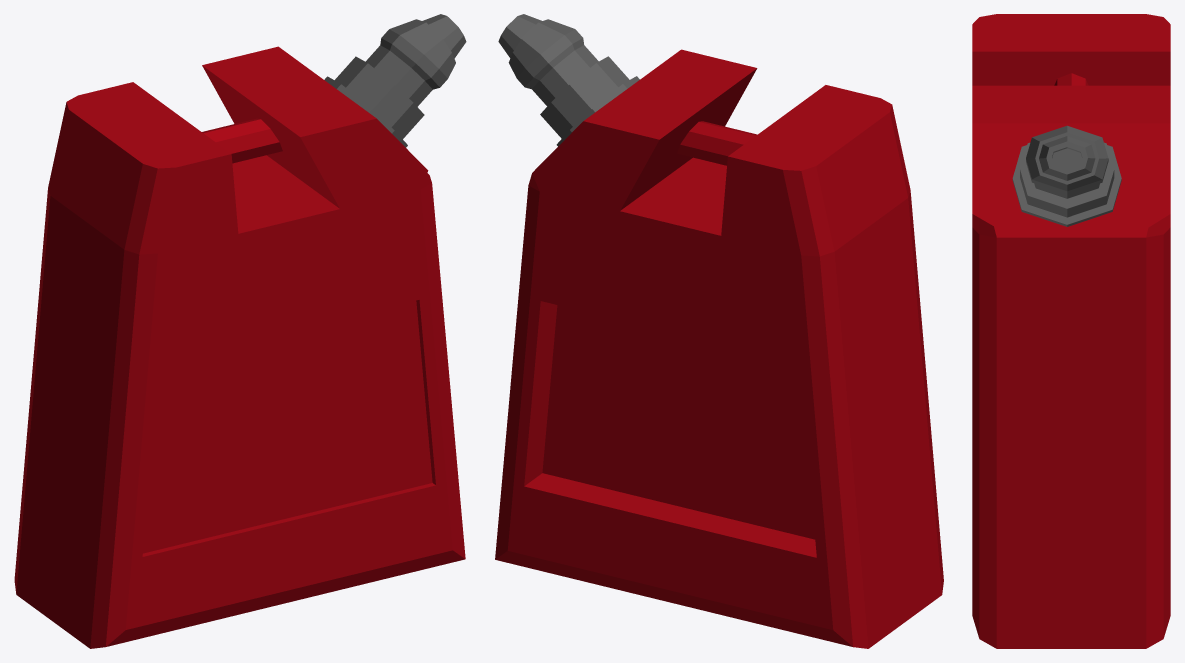
Rendered from oil bottle.fbx.
The picture shows the model from 3 angles, left to right: view 1: azimuth 30°, elevation 25°; view 2: azimuth 150°, elevation 25°; view 3: azimuth 270°, elevation 25°; orthographic projection.
Parts seen in each view (by area): view 1: oil bottle; view 2: oil bottle; view 3: oil bottle.
Part boxes in pixels (box(x1,y1,x2,y2)): oil bottle: box(14, 14, 466, 648); oil bottle: box(495, 14, 943, 648); oil bottle: box(972, 14, 1170, 648).
Size of the model in its own units: 23.87 by 28.86 by 10.06.
